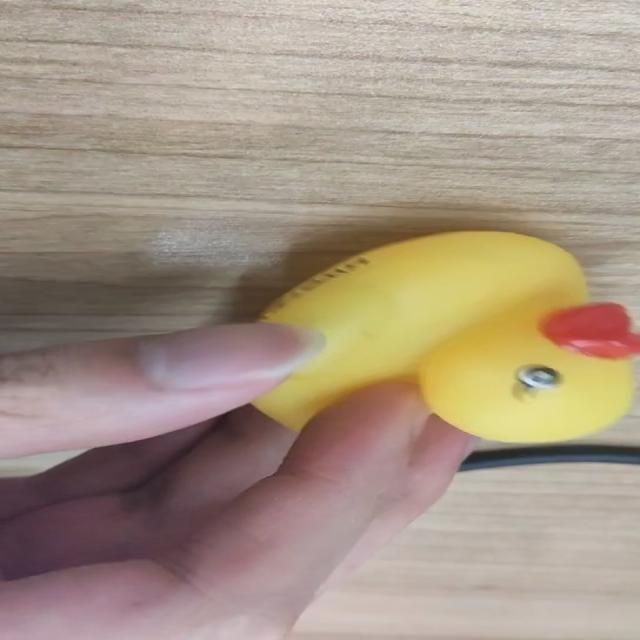rubber-duck: (253, 230, 638, 441)
